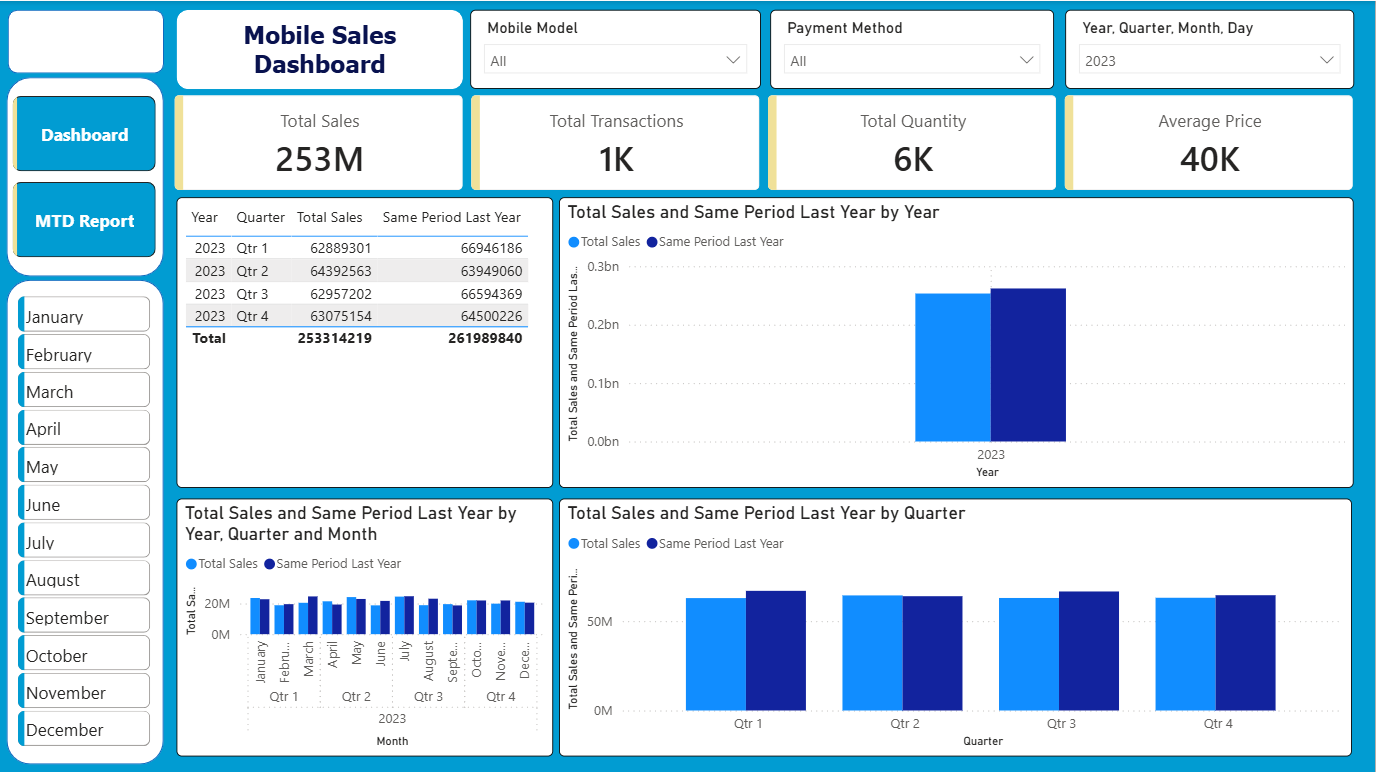

This screenshot's page, from the dashboard's own definition file:
{"tool":"powerbi","page":{"name":"Same Period Last Year","canvas":[1280,720],"ordinal":2},"visuals":[{"type":"shape","box":[8.1,8.1,145.3,59.3],"z":0},{"type":"shape","box":[7.3,70.7,146.3,185.4],"z":1000},{"type":"cardVisual","fields":{"Data":["Sales_Data.Total Sales","Sales_Data.Total Transactions","Sales_Data.Total Quantity","Sales_Data.Average Price"]},"box":[146.5,70.4,1133.8,122.5],"z":2000},{"type":"shape","title":"Mobile Sales Dashboard","box":[165.3,8,266.7,74],"z":3000},{"type":"slicer","fields":{"Values":["Sales_Data.Mobile Model"]},"box":[438,8.7,270,73.3],"z":4000},{"type":"slicer","fields":{"Values":["Sales_Data.Payment Method"]},"box":[718,8.7,264,73.3],"z":5000},{"type":"slicer","fields":{"Values":["Custom_Calendar.Date.Variation.Date Hierarchy.Year","Custom_Calendar.Date.Variation.Date Hierarchy.Quarter","Custom_Calendar.Date.Variation.Date Hierarchy.Month","Custom_Calendar.Date.Variation.Date Hierarchy.Day"]},"box":[991.5,8.5,269,73.2],"z":6000},{"type":"shape","box":[7.5,259.8,146.3,450.9],"z":7000},{"type":"advancedSlicerVisual","fields":{"Values":["Custom_Calendar.Date.Variation.Date Hierarchy.Month"]},"box":[13.3,269.3,133.3,433.3],"z":8000},{"type":"tableEx","fields":{"Values":["Custom_Calendar.Date.Variation.Date Hierarchy.Year","Custom_Calendar.Date.Variation.Date Hierarchy.Quarter","Sales_Data.Total Sales","Sales_Data.Same Period Last Year"]},"box":[165,182.5,350,270],"z":9000},{"type":"clusteredColumnChart","fields":{"Category":["Custom_Calendar.Date.Variation.Date Hierarchy.Year","Custom_Calendar.Date.Variation.Date Hierarchy.Quarter"],"Y":["Sales_Data.Total Sales","Sales_Data.Same Period Last Year"]},"box":[520.8,182.3,739.2,270],"z":10000},{"type":"clusteredColumnChart","fields":{"Category":["Custom_Calendar.Date.Variation.Date Hierarchy.Year","Custom_Calendar.Date.Variation.Date Hierarchy.Quarter"],"Y":["Sales_Data.Total Sales","Sales_Data.Same Period Last Year"]},"box":[520.8,462.3,737.7,240],"z":11000},{"type":"clusteredColumnChart","fields":{"Y":["Sales_Data.Total Sales","Sales_Data.Same Period Last Year"],"Category":["Custom_Calendar.Date.Variation.Date Hierarchy.Year","Custom_Calendar.Date.Variation.Date Hierarchy.Quarter","Custom_Calendar.Date.Variation.Date Hierarchy.Month","Custom_Calendar.Date.Variation.Date Hierarchy.Day"]},"box":[165,462.5,350,240],"z":12000},{"type":"pageNavigator","box":[13.3,88.3,133.3,151.7],"z":12001}]}

Visuals, with their boxes in screenshot pixels (x1, y1, x2, y2), scaled from the page's 1280x720 canvas onto the 1376x772 screenshot:
shape: crop(9, 9, 165, 72)
shape: crop(8, 76, 165, 275)
cardVisual - Sales_Data.Total Sales x Sales_Data.Total Transactions: crop(157, 75, 1375, 207)
"Mobile Sales Dashboard" shape: crop(178, 9, 464, 88)
slicer - Sales_Data.Mobile Model: crop(471, 9, 761, 88)
slicer - Sales_Data.Payment Method: crop(772, 9, 1056, 88)
slicer - Custom_Calendar.Date.Variation.Date Hierarchy.Year x Custom_Calendar.Date.Variation.Date Hierarchy.Quarter: crop(1066, 9, 1355, 88)
shape: crop(8, 279, 165, 762)
advancedSlicerVisual - Custom_Calendar.Date.Variation.Date Hierarchy.Month: crop(14, 289, 158, 753)
tableEx - Custom_Calendar.Date.Variation.Date Hierarchy.Year x Custom_Calendar.Date.Variation.Date Hierarchy.Quarter: crop(177, 196, 554, 485)
clusteredColumnChart - Custom_Calendar.Date.Variation.Date Hierarchy.Year x Custom_Calendar.Date.Variation.Date Hierarchy.Quarter: crop(560, 195, 1354, 485)
clusteredColumnChart - Custom_Calendar.Date.Variation.Date Hierarchy.Year x Custom_Calendar.Date.Variation.Date Hierarchy.Quarter: crop(560, 496, 1353, 753)
clusteredColumnChart - Sales_Data.Total Sales x Sales_Data.Same Period Last Year: crop(177, 496, 554, 753)
pageNavigator: crop(14, 95, 158, 257)
